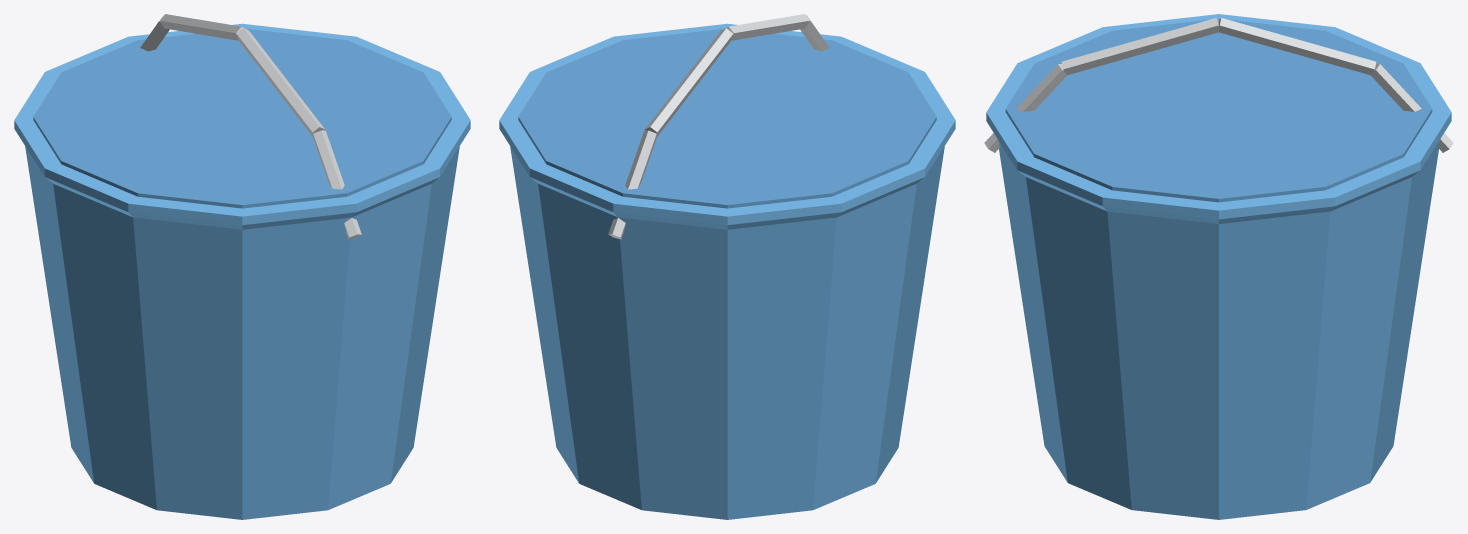
The model's file is bucket.glb.
3 renders of one model, left to right at view 1: azimuth 30°, elevation 25°; view 2: azimuth 150°, elevation 25°; view 3: azimuth 270°, elevation 25°, orthographic.
Bounding box in the file's own units: 0.24 × 0.2438 × 0.2421.
